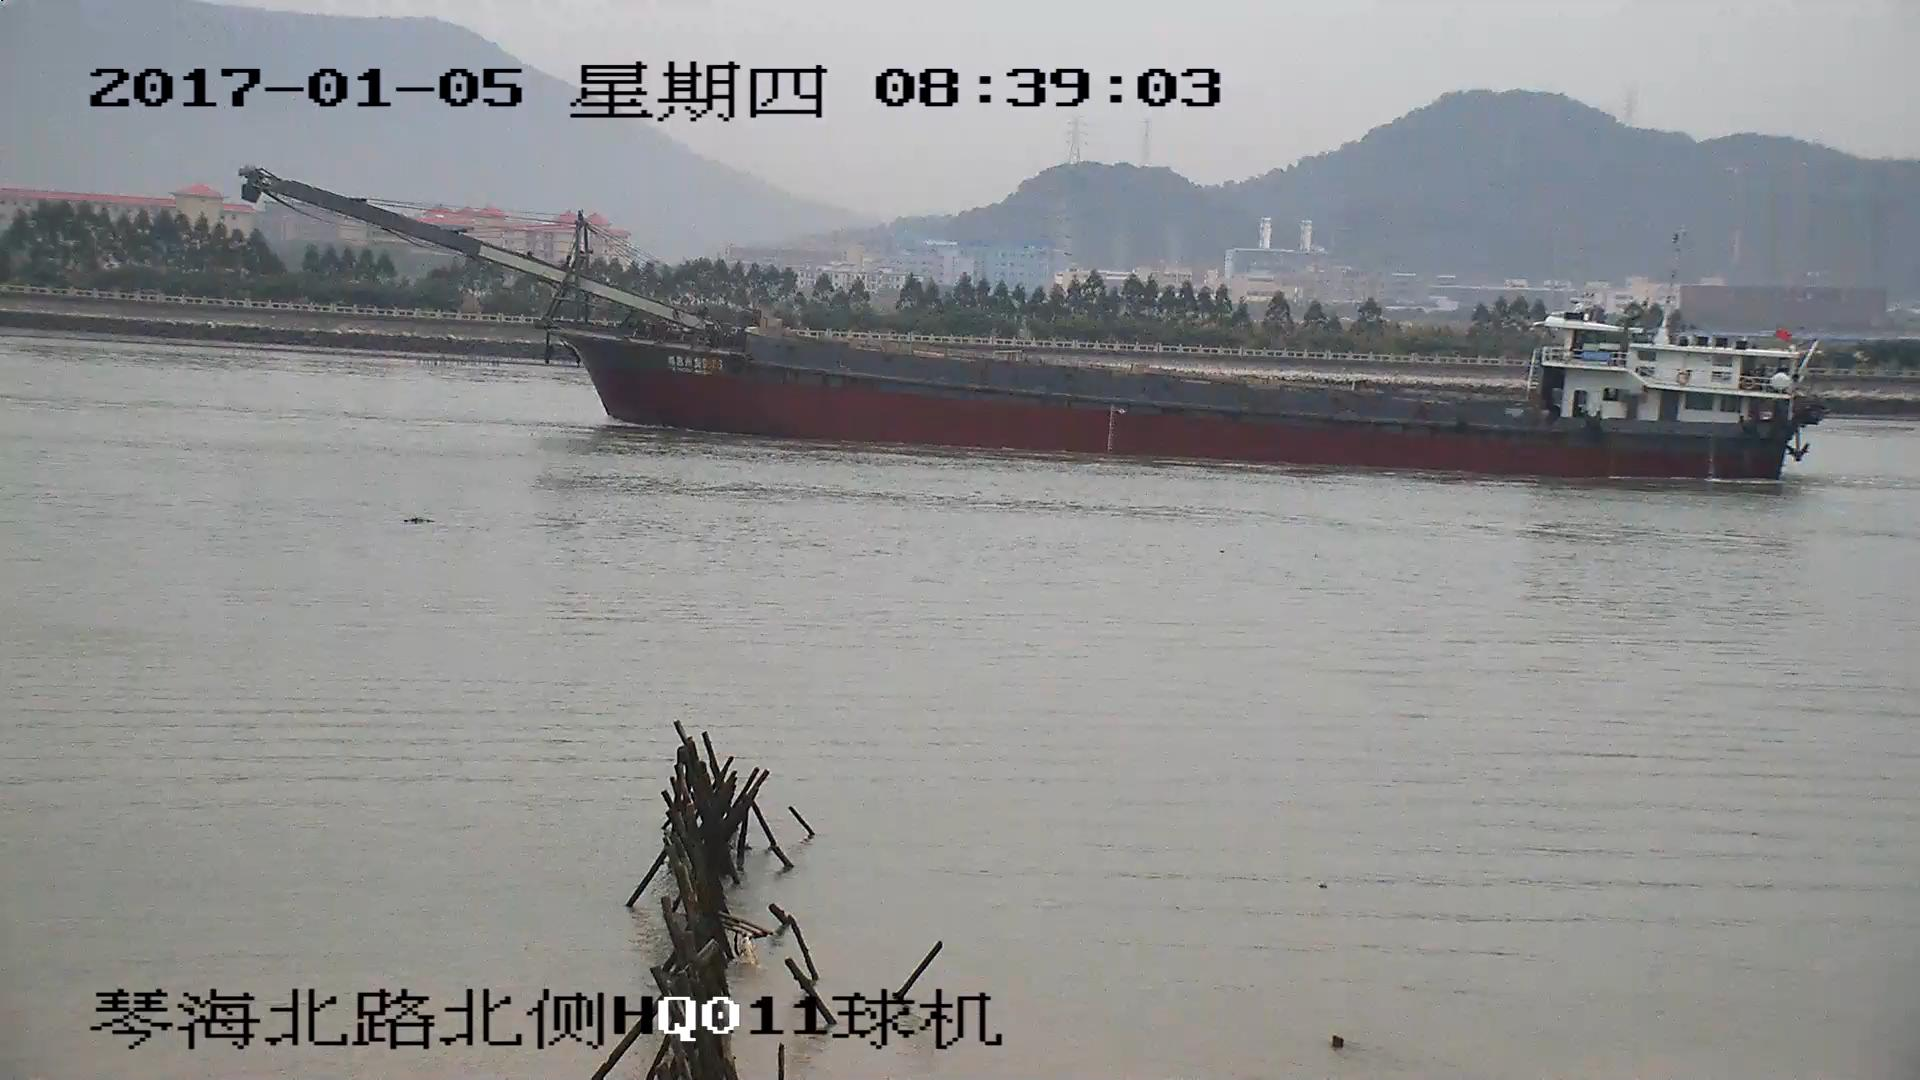bulk cargo carrier: (241, 174, 1820, 480)
